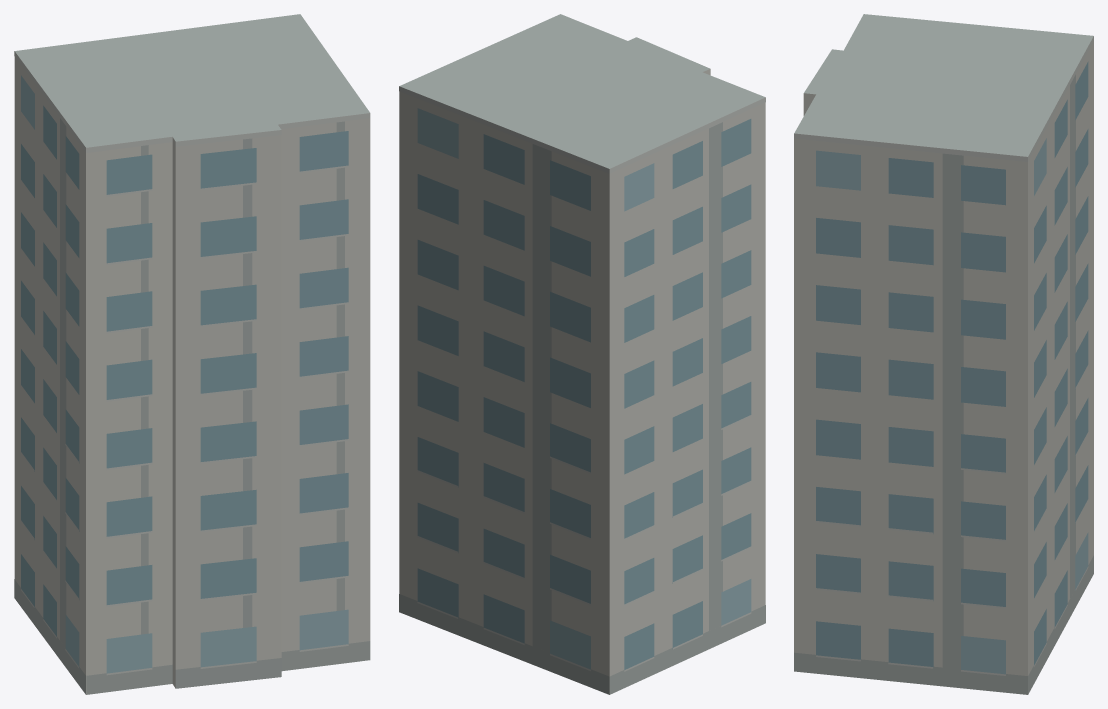
File: survey-upis-32768986.glb
The picture shows the model from 3 angles, left to right: view 1: azimuth 30°, elevation 25°; view 2: azimuth 150°, elevation 25°; view 3: azimuth 270°, elevation 25°; orthographic projection. The views are drawn at different scales.
Visible parts, largest first — view 1: survey-upis-32768986.tmp; view 2: survey-upis-32768986.tmp; view 3: survey-upis-32768986.tmp.
Boxes of the visible parts, <box> form: survey-upis-32768986.tmp: <box>14,14,370,694</box>; survey-upis-32768986.tmp: <box>399,14,765,694</box>; survey-upis-32768986.tmp: <box>794,14,1093,694</box>.
Bounding box in the file's own units: 14.43 × 25.31 × 12.79.
